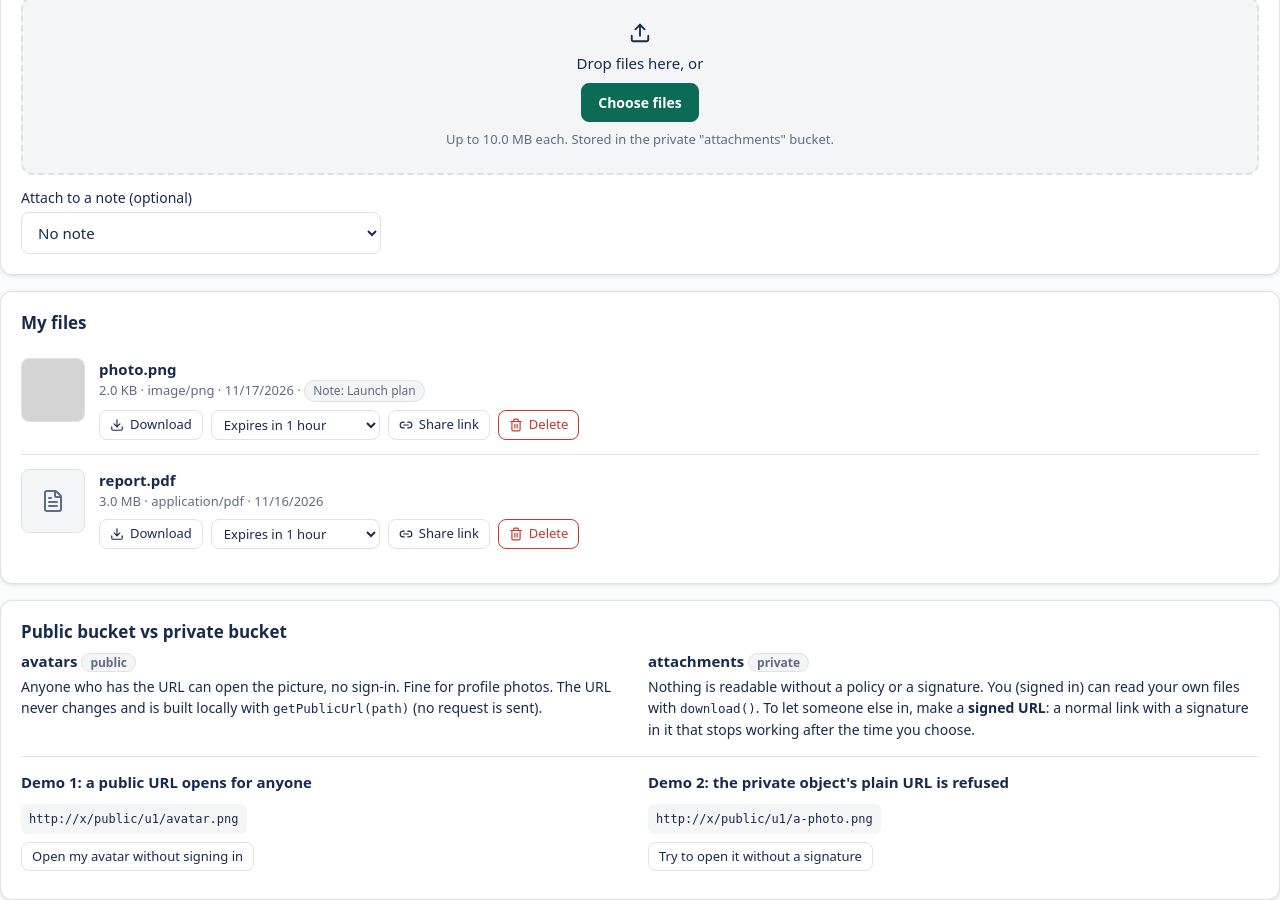
Test: public vs private panel › opens a public avatar URL without auth
(page scrolled)
Click the button "Open my avatar without signing in": (138, 857) [21,842,254,871]
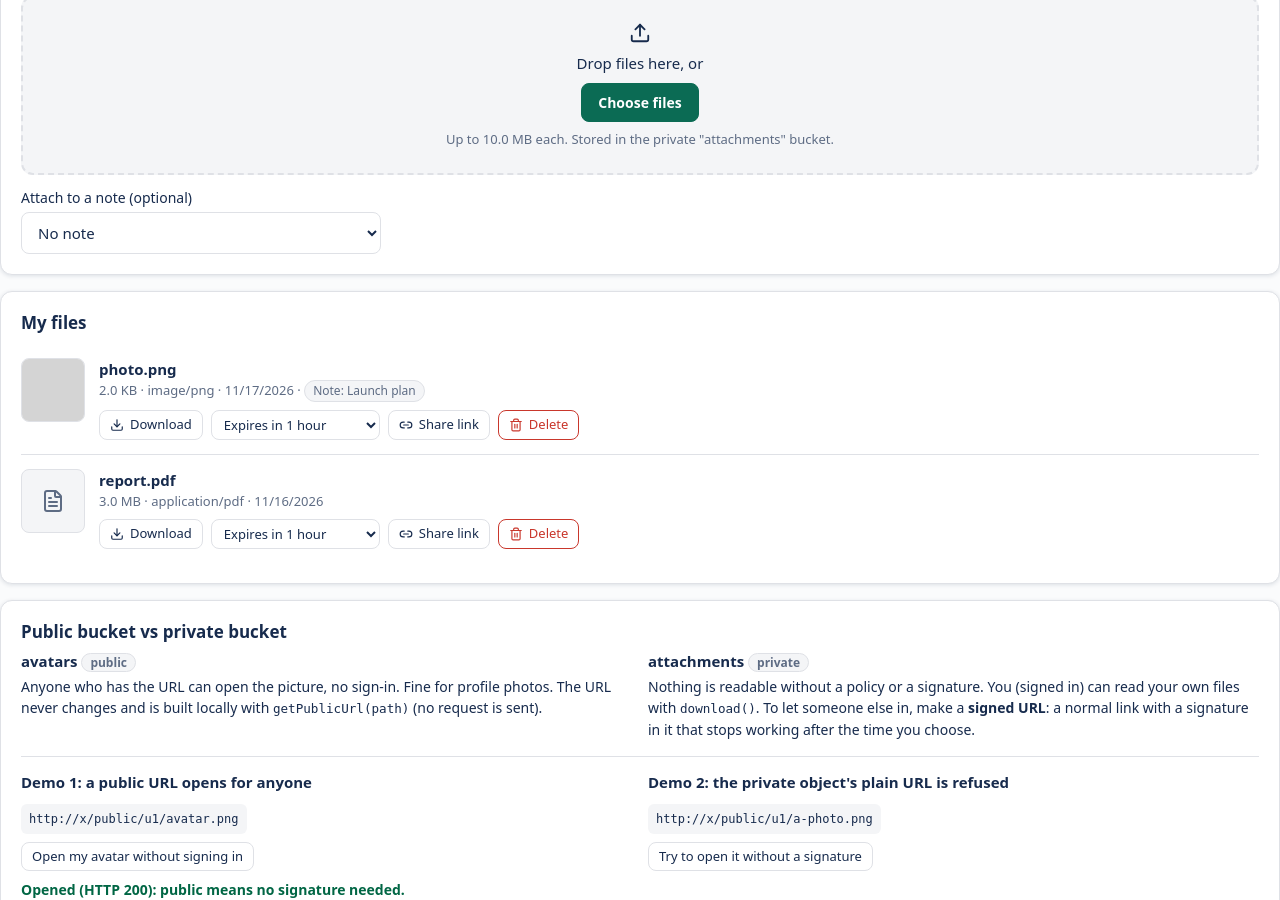
Expected: the text with test id "public-result" shows "Opened (HTTP 200)", [21,880,405,899]
